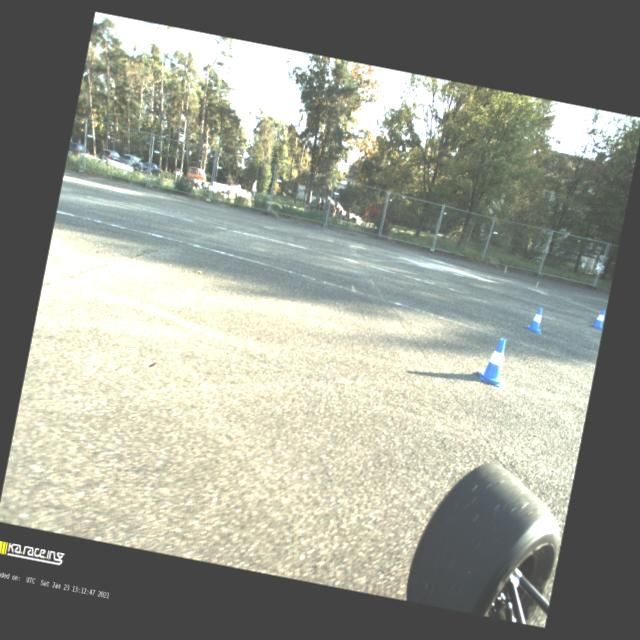blue_cone: (475, 334, 514, 389), (525, 304, 547, 334), (588, 306, 606, 331)
